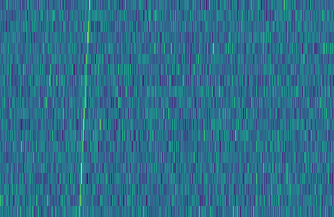signal: (72, 0, 91, 217)
